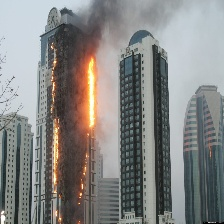fire: (86, 58, 98, 127), (77, 148, 91, 204), (51, 122, 61, 193), (49, 46, 56, 113), (54, 208, 63, 223)
smoke: (73, 1, 208, 56)
